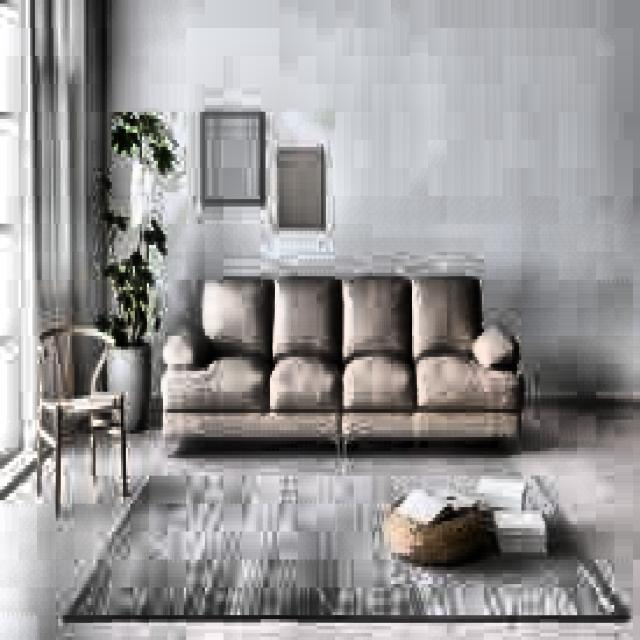sofa: (166, 269, 528, 451)
